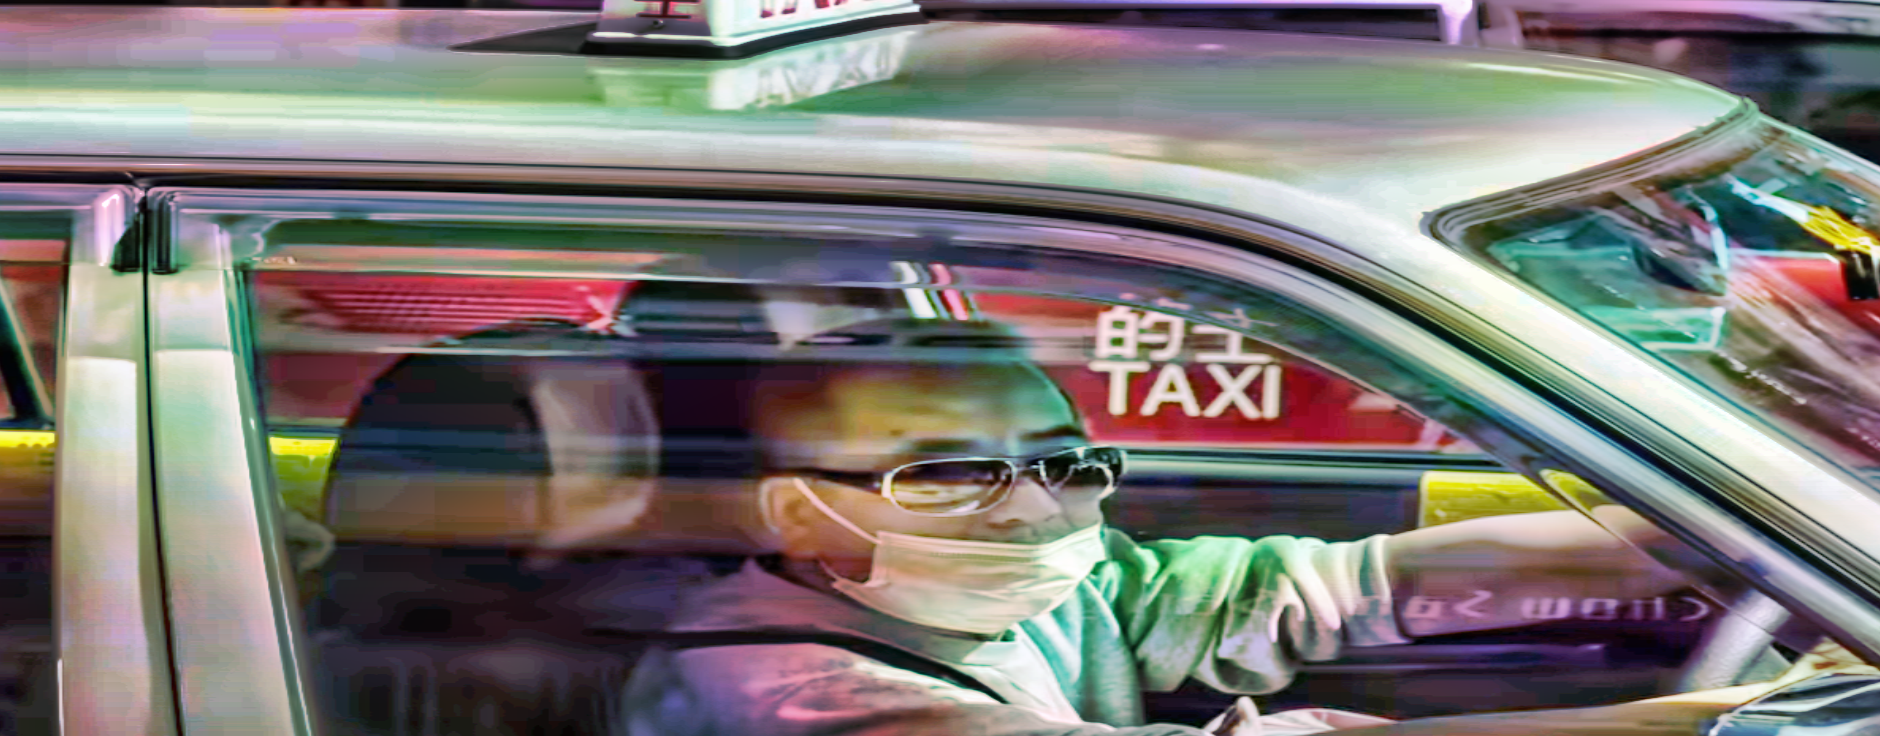mask_weared_incorrect: (715, 322, 1119, 639)
